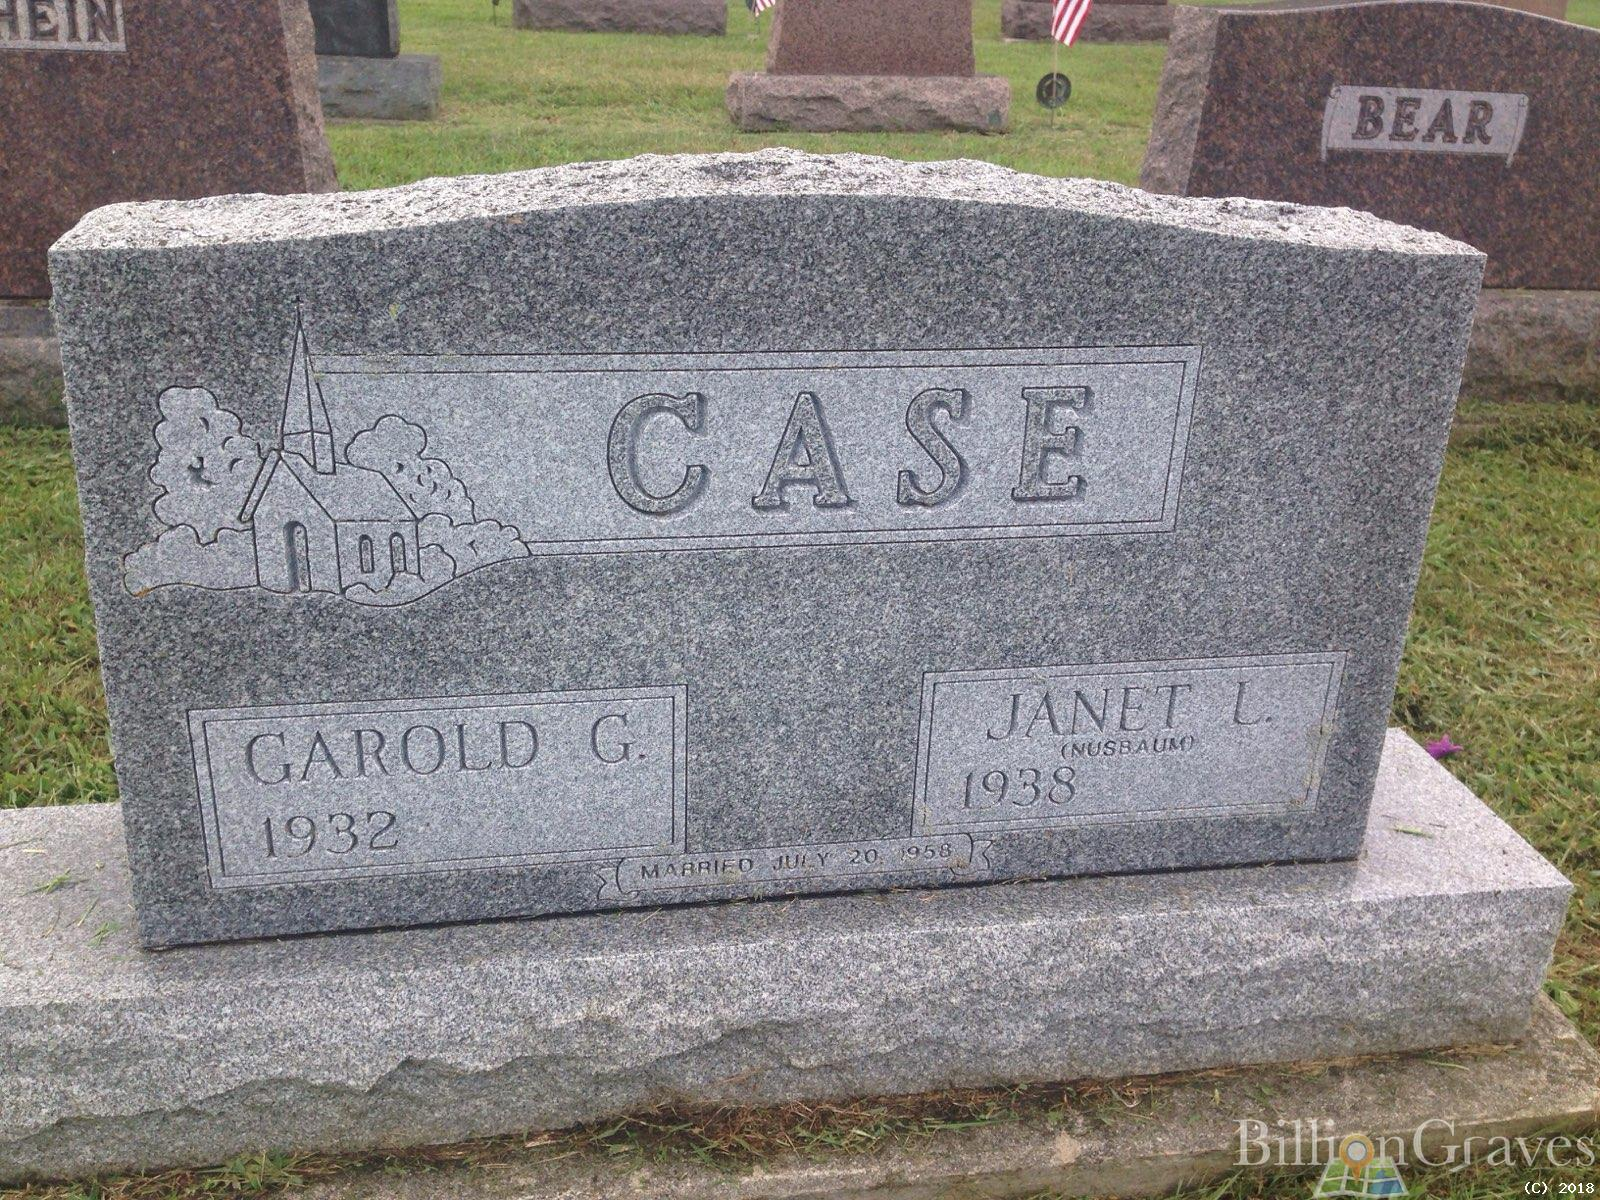upright: (26, 140, 1495, 1046)
